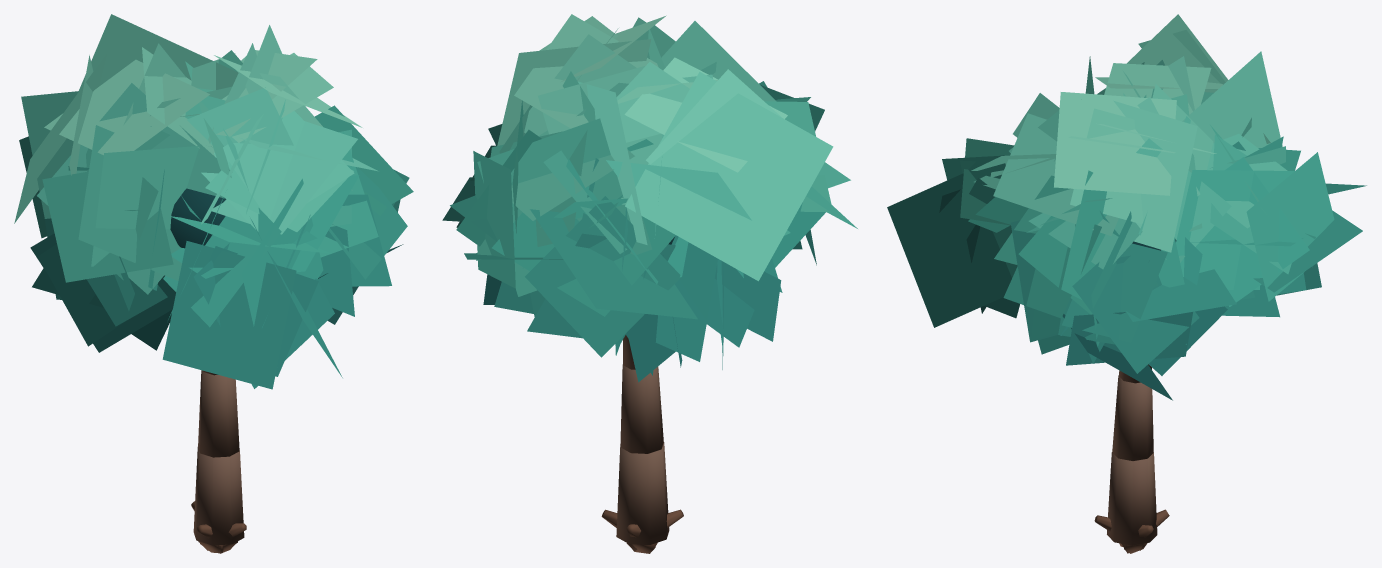
Rendered from tree_teal.glb.
The picture shows the model from 3 angles, left to right: view 1: azimuth 30°, elevation 25°; view 2: azimuth 150°, elevation 25°; view 3: azimuth 270°, elevation 25°; orthographic projection. The views are drawn at different scales.
Visible parts, largest first — view 1: Leaves, Tree; view 2: Leaves, Tree; view 3: Leaves, Tree.
Part boxes in pixels (<box>): Leaves: <box>14,14,413,389</box>; Tree: <box>170,188,246,553</box>; Leaves: <box>442,14,857,382</box>; Tree: <box>601,237,683,553</box>; Leaves: <box>887,14,1366,400</box>; Tree: <box>1094,239,1176,553</box>.
Size of the model in its own units: 3.5 by 4.67 by 4.18.
